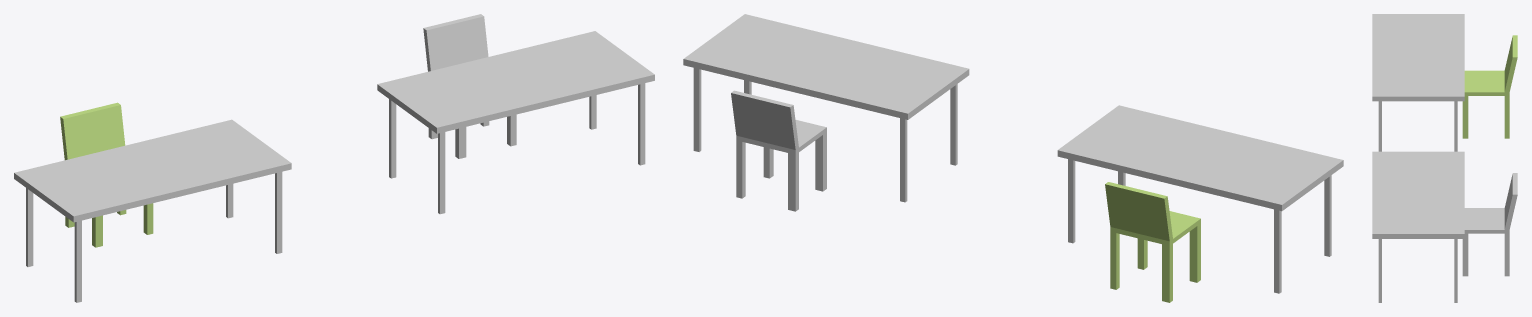
The model's file is Table & Chair.fbx.
3 renders of one model, left to right at view 1: azimuth 30°, elevation 25°; view 2: azimuth 150°, elevation 25°; view 3: azimuth 270°, elevation 25°, orthographic. The views are drawn at different scales.
Parts seen in each view (by area): view 1: Плоскость.093, Плоскость.092, Куб.186, Куб.185; view 2: Плоскость.093, Плоскость.092, Куб.185, Куб.186; view 3: Плоскость.093, Плоскость.092, Куб.185, Куб.186.
Part boxes in pixels (x1=…): Плоскость.093: x1=377, y1=31, x2=654, y2=214; Плоскость.092: x1=14, y1=119, x2=291, y2=302; Куб.186: x1=423, y1=14, x2=516, y2=158; Куб.185: x1=60, y1=102, x2=153, y2=247; Плоскость.093: x1=683, y1=14, x2=969, y2=202; Плоскость.092: x1=1057, y1=105, x2=1343, y2=293; Куб.185: x1=1105, y1=182, x2=1200, y2=302; Куб.186: x1=731, y1=90, x2=826, y2=211; Плоскость.093: x1=1372, y1=151, x2=1464, y2=302; Плоскость.092: x1=1372, y1=14, x2=1464, y2=151; Куб.185: x1=1462, y1=35, x2=1517, y2=138; Куб.186: x1=1462, y1=173, x2=1517, y2=276.
Size of the model in its own units: 922 by 159 by 258.
